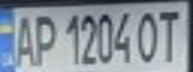0: (97, 8, 118, 65)
1: (60, 9, 81, 66)
2: (78, 8, 100, 65)
4: (112, 7, 136, 64)
A: (6, 10, 39, 70)
O: (133, 6, 163, 64)
P: (30, 10, 60, 67)
T: (154, 4, 187, 64)
